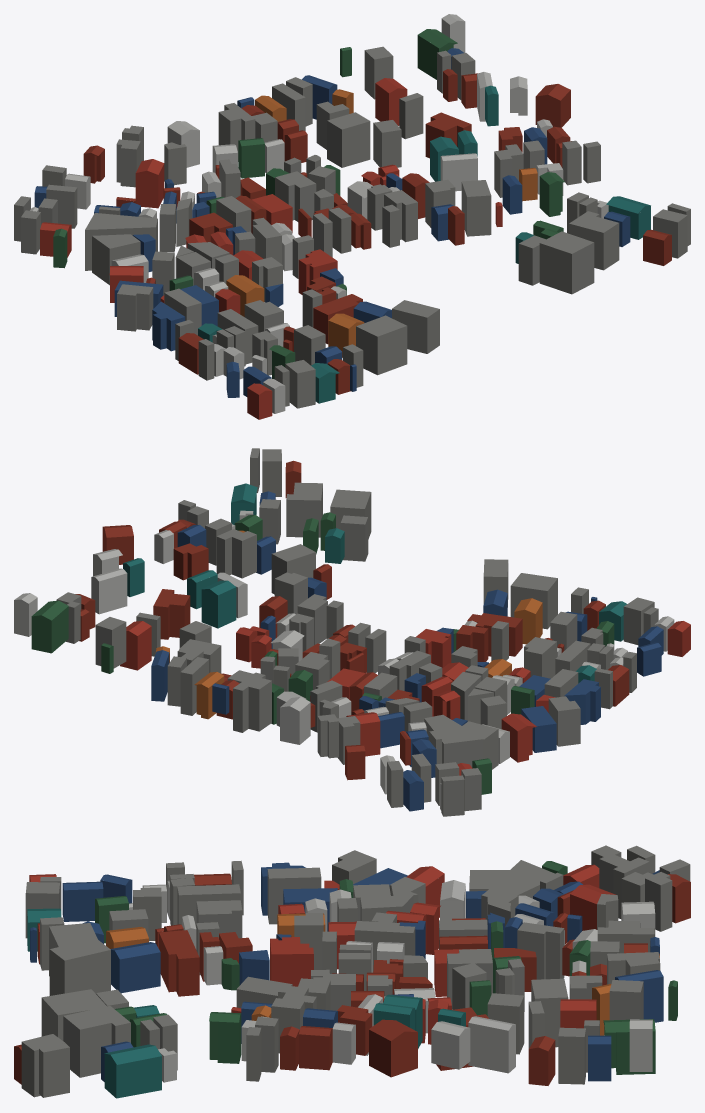
File: near-17-109445-59472.0d31aa25.glb
The picture shows the model from 3 angles, top to bottom: view 1: azimuth 30°, elevation 25°; view 2: azimuth 150°, elevation 25°; view 3: azimuth 270°, elevation 25°; orthographic projection. The views are drawn at different scales.
Bounding box in the file's own units: 311 × 77.97 × 304.
